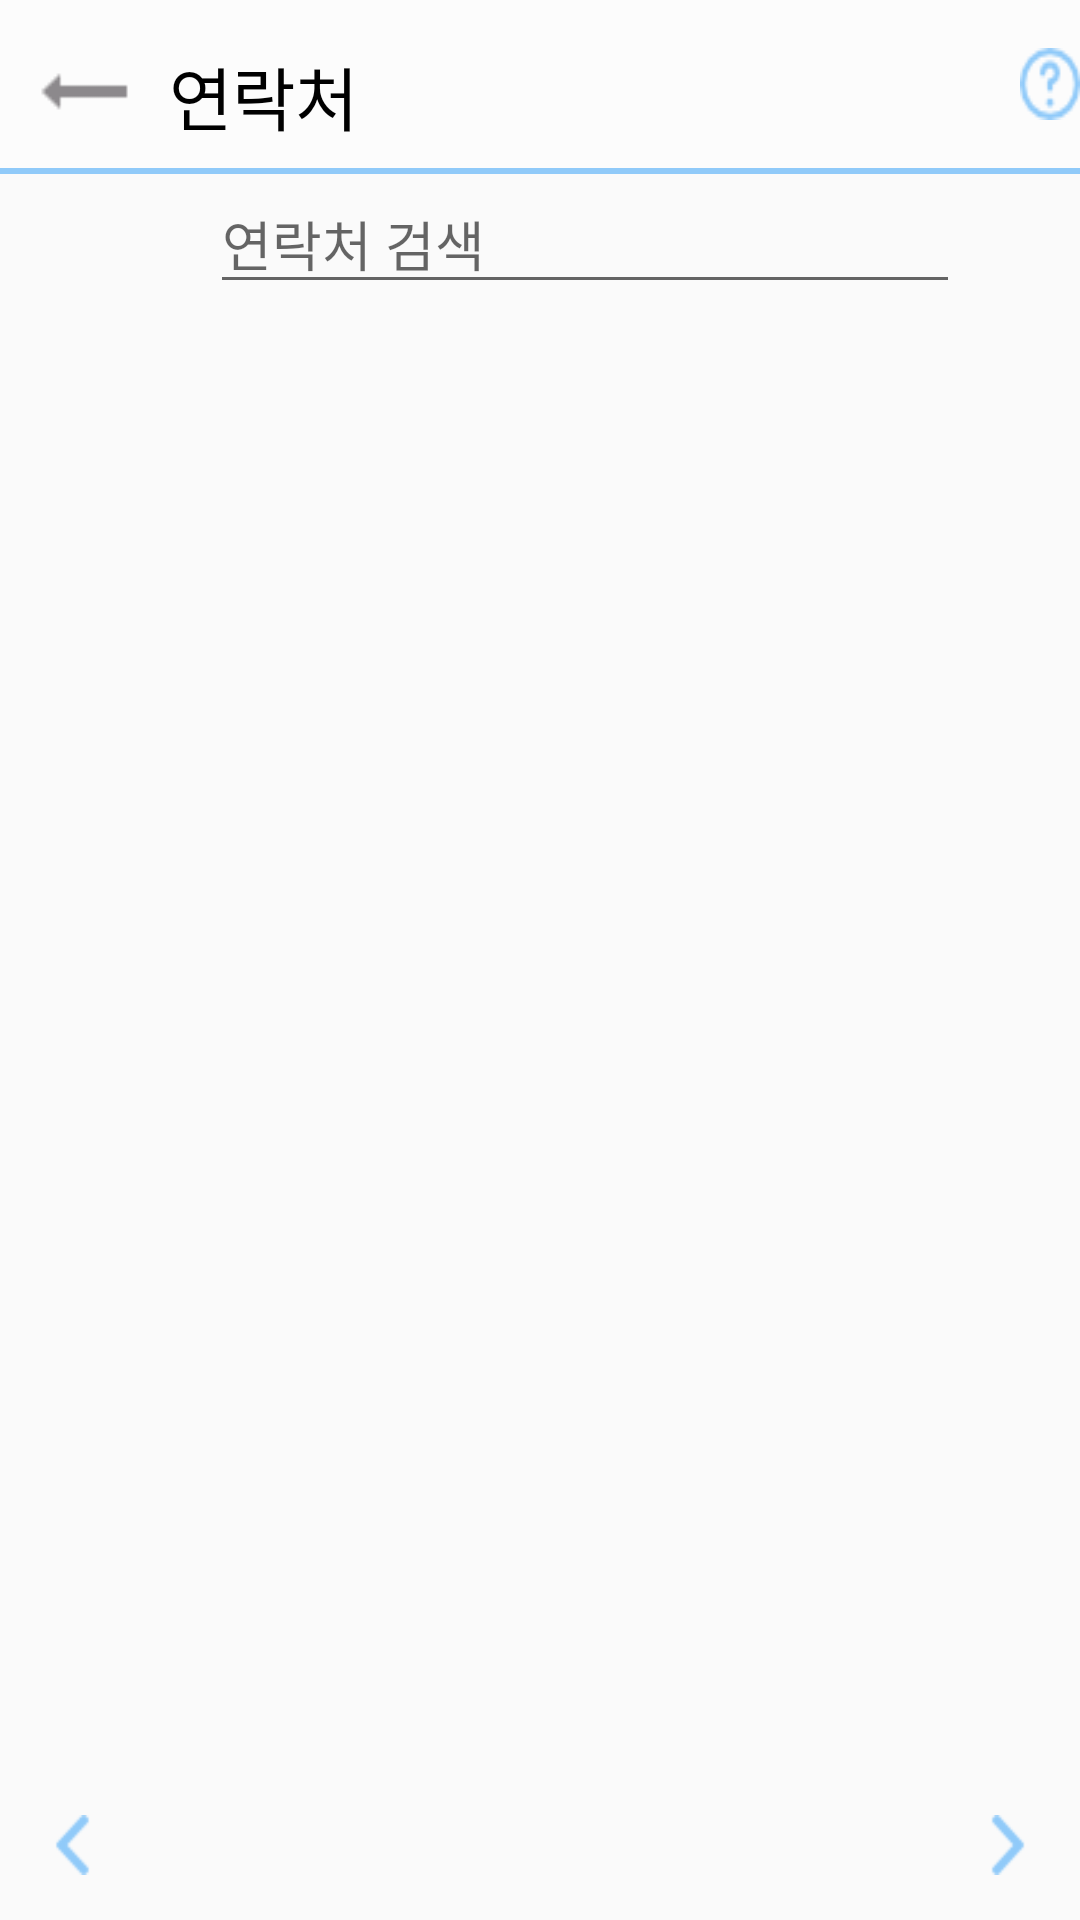

Locate icon controls on the screen. Image size 1080×1920, boxes as (x1, y1, x2, y2).
back: (56, 1815, 89, 1875)
back long: (42, 74, 128, 109)
help: (1020, 48, 1080, 120)
next: (992, 1815, 1024, 1875)
